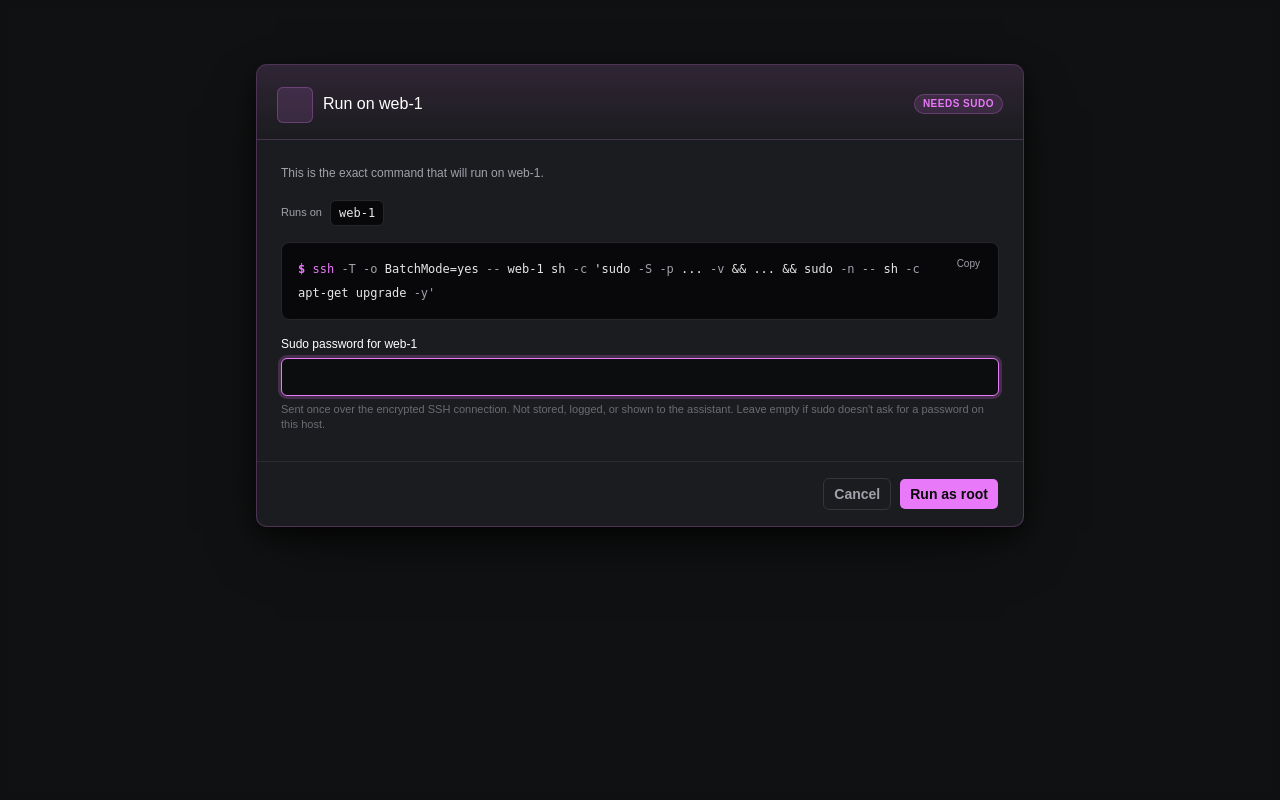
Test: ConfirmSheet — sudo sshCommand › clears the password on cancel
Type "hunter2" into the password field labelled "Sudo password for web-1" at (640, 376), box [281, 358, 999, 396]
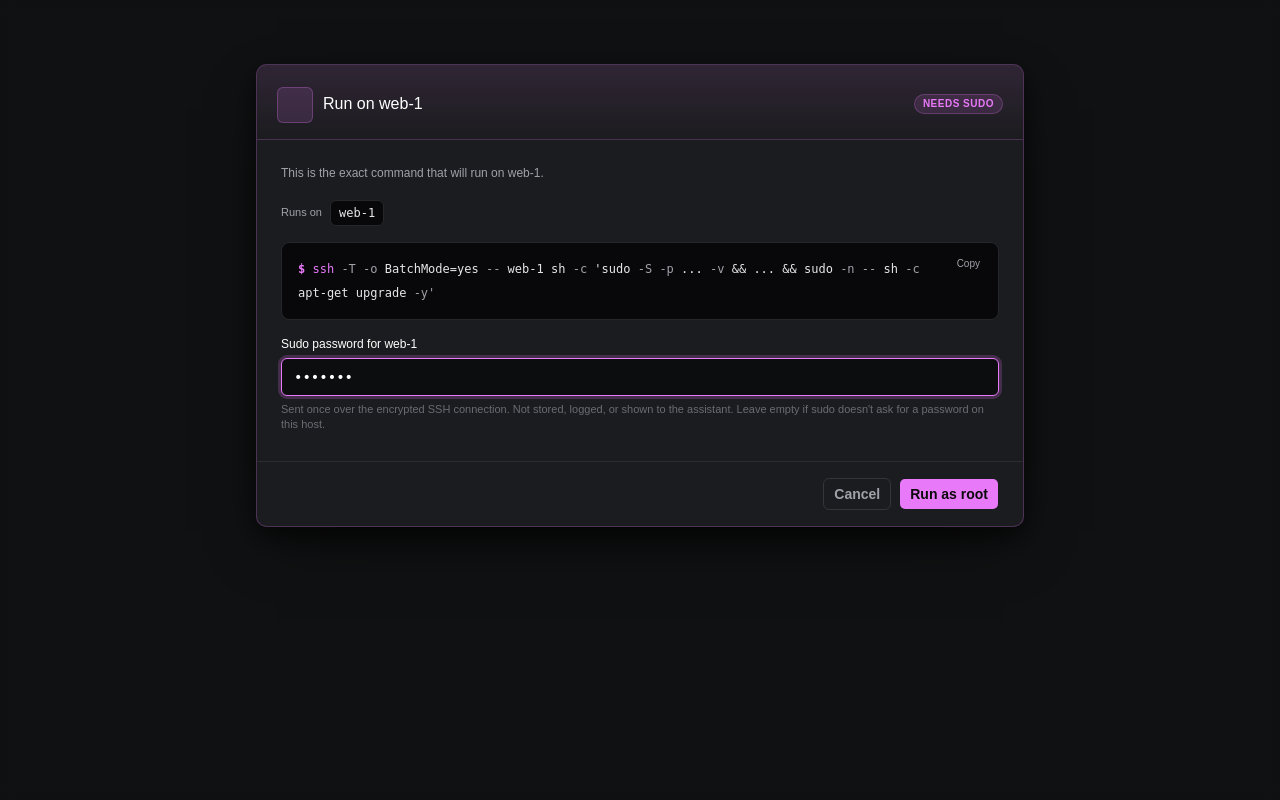
Click the button "Cancel" at (857, 494), box [823, 478, 891, 510]
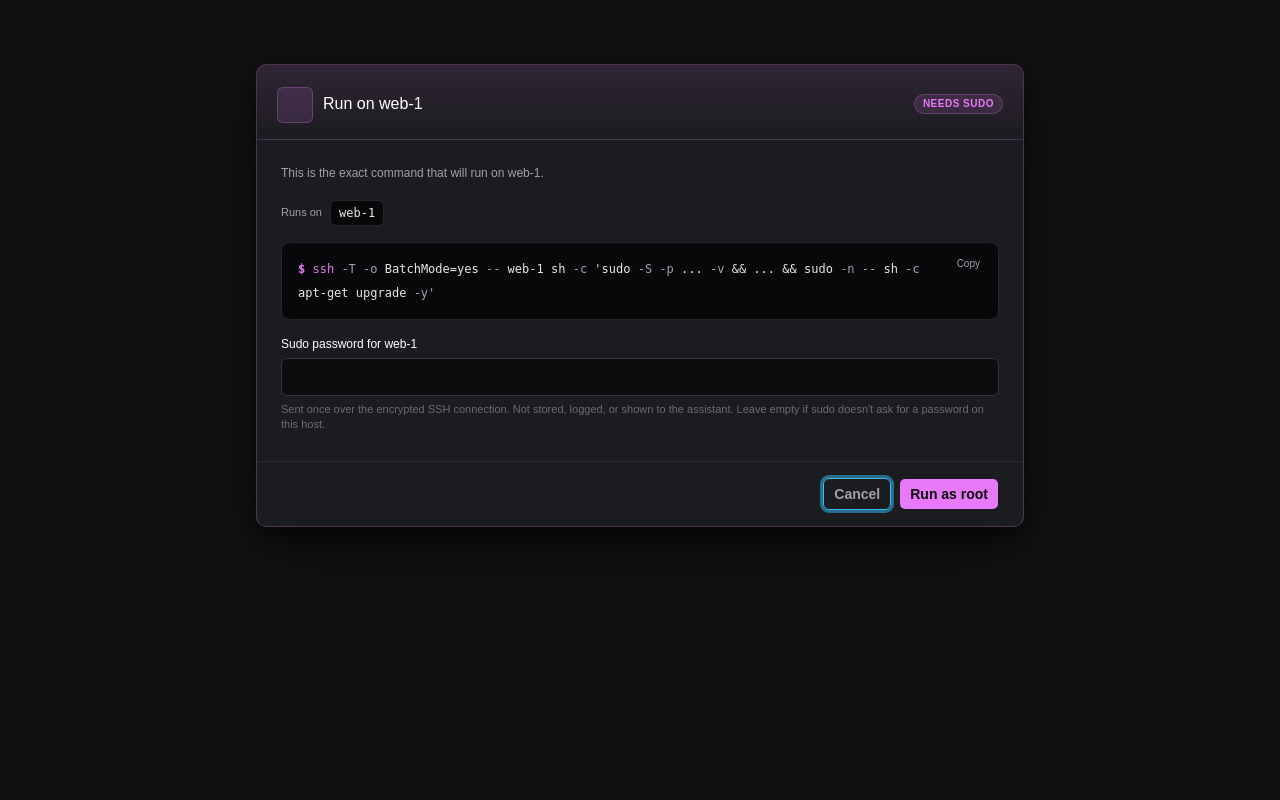
Check: the password field labelled "Sudo password for web-1" is empty, box [281, 358, 999, 396]
